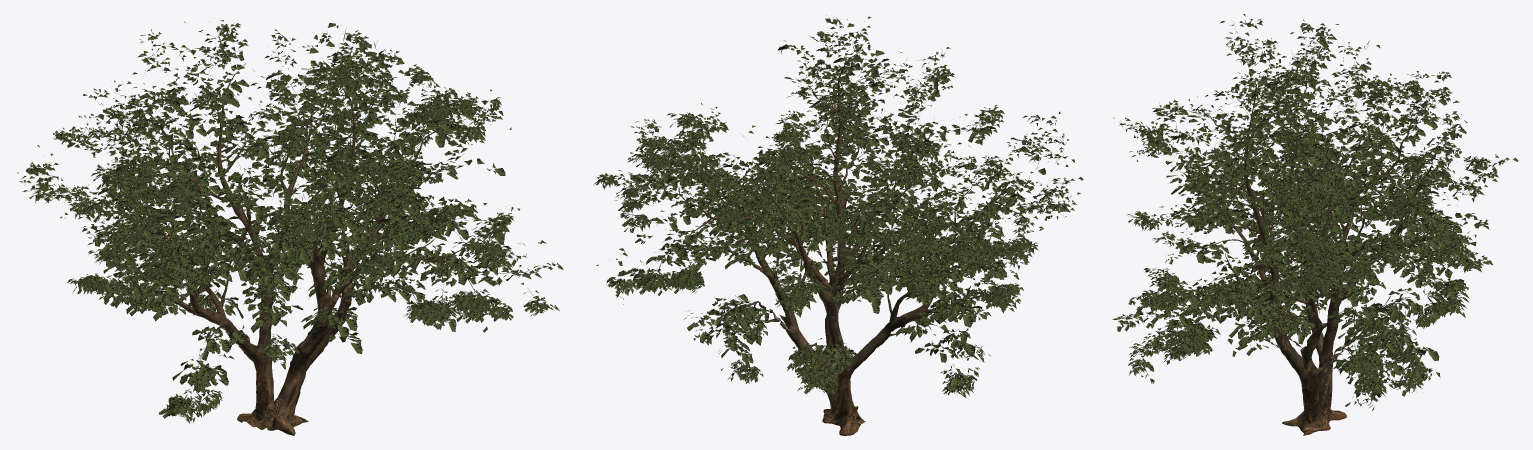
File: jacaranda-tree.glb
The picture shows the model from 3 angles, left to right: view 1: azimuth 30°, elevation 25°; view 2: azimuth 150°, elevation 25°; view 3: azimuth 270°, elevation 25°; orthographic projection. The views are drawn at different scales.
Visible parts, largest first — view 1: jacaranda_tree_LOD0; view 2: jacaranda_tree_LOD0; view 3: jacaranda_tree_LOD0.
Part boxes in pixels (x1,y1,x2,y2): jacaranda_tree_LOD0: (17,20,563,435); jacaranda_tree_LOD0: (593,15,1083,435); jacaranda_tree_LOD0: (1112,14,1518,435).
Size of the model in its own units: 24.16 by 19.29 by 19.05.
Materials: 3 (3 with a texture image).
